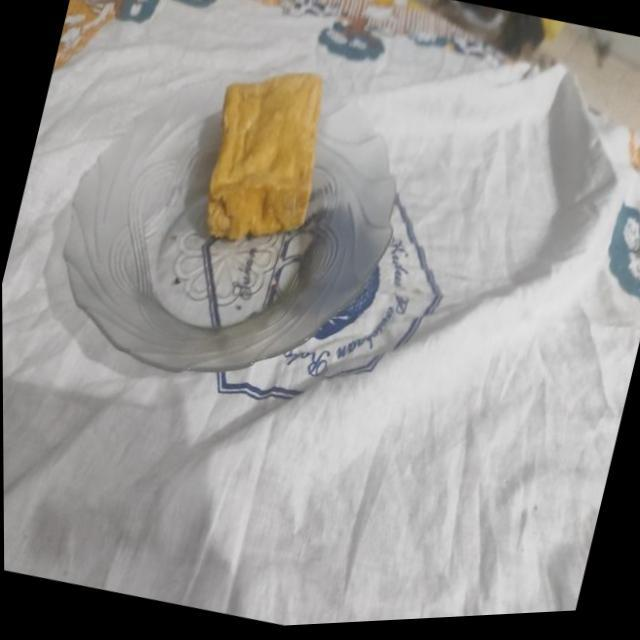tahu_goreng: (207, 72, 321, 238)
